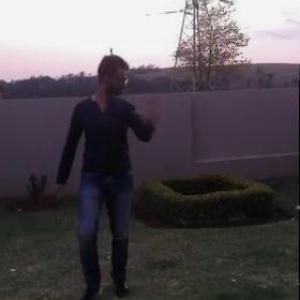follow_hand: (139, 92, 172, 124)
